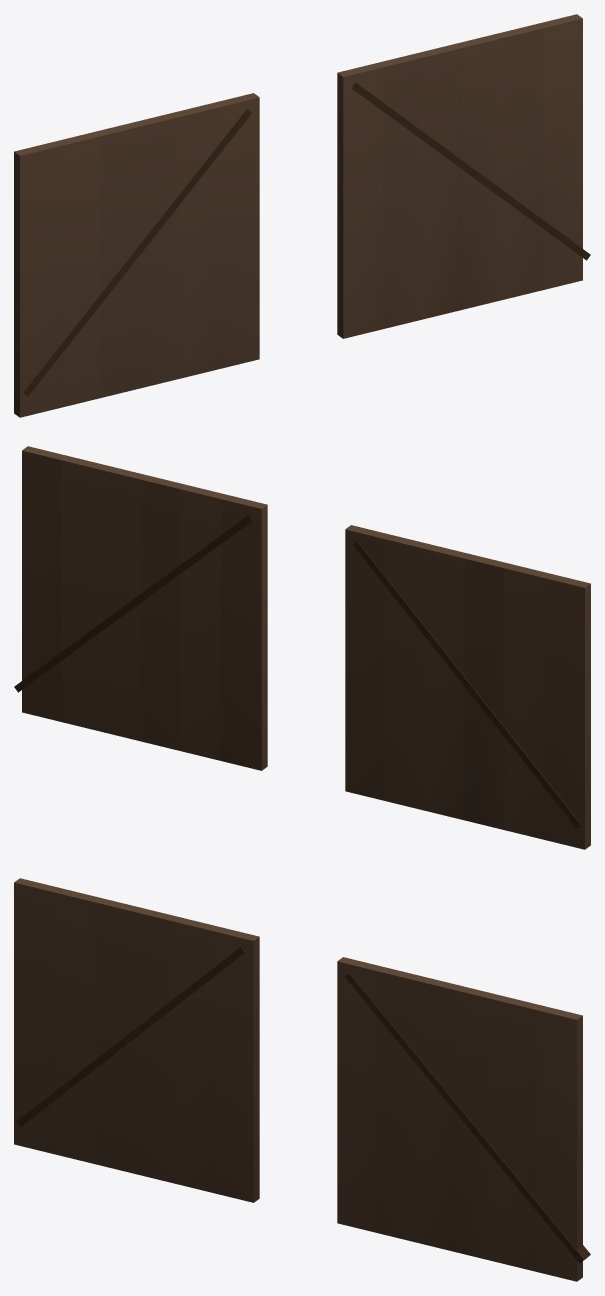
Rendered from kit_shed_doors.glb.
3 views of the same model, one above another, from view 1: azimuth 30°, elevation 25°; view 2: azimuth 150°, elevation 25°; view 3: azimuth 330°, elevation 25° (orthographic).
Visible parts, largest first — view 1: door_r, door_l; view 2: door_r, door_l; view 3: door_r, door_l.
Boxes of the visible parts, x1,y1,x2,y2 form: door_r: [337, 14, 590, 338]; door_l: [14, 93, 259, 417]; door_r: [14, 446, 267, 770]; door_l: [345, 525, 590, 849]; door_r: [337, 957, 590, 1281]; door_l: [14, 878, 259, 1202].
Bounding box in the file's own units: 5.47 × 2.4 × 0.12.
